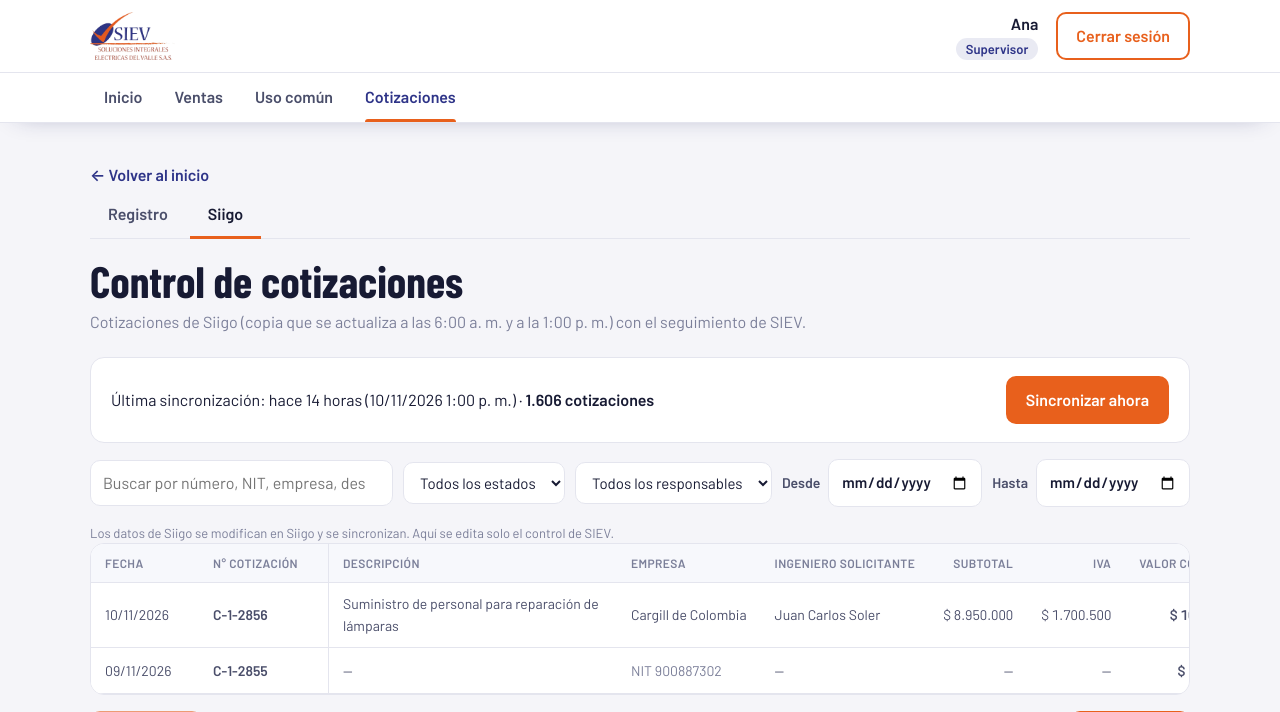
Test: detalle › guardar envía el formulario completo, null si es igual a Siigo, y luego el estado
Click the text "C-1-2856": (240, 615) [213,606,268,623]
(page scrolled)
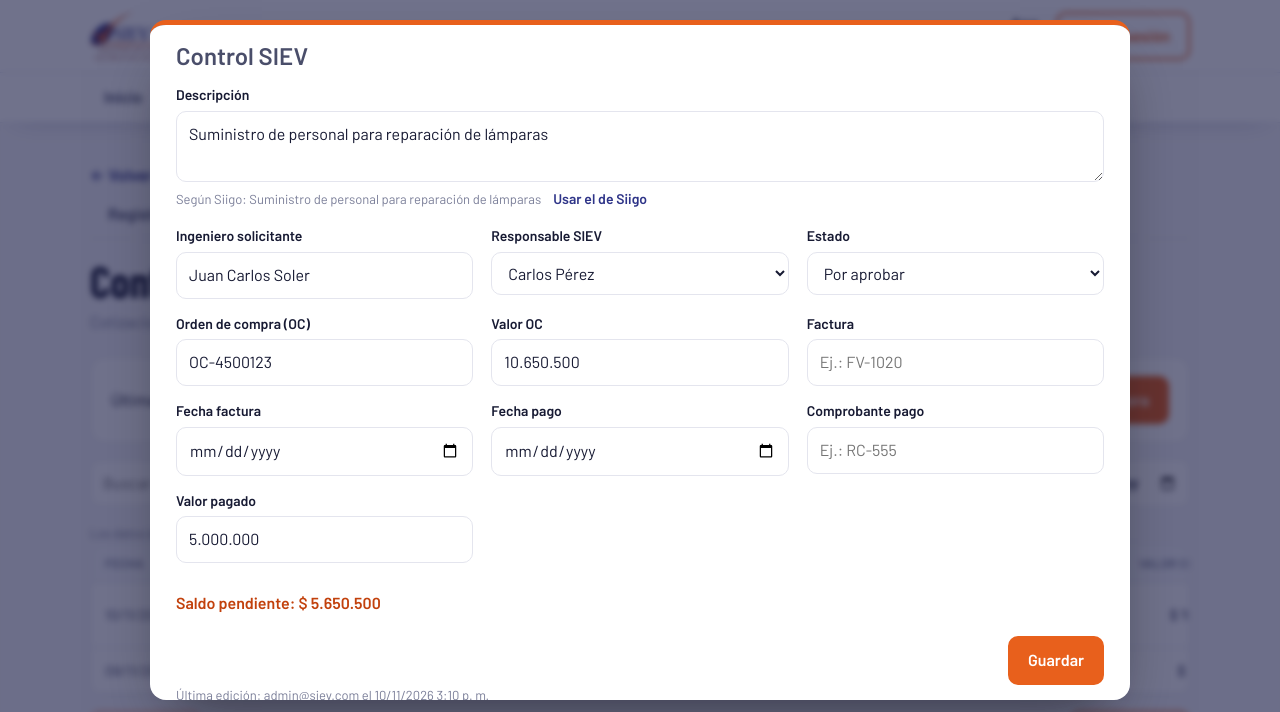
Result: the text "Según Siigo:" is shown once at [176,187,653,211]
In the field labelled "Factura": (955, 363) [807,339,1104,386], type "FV-1020"
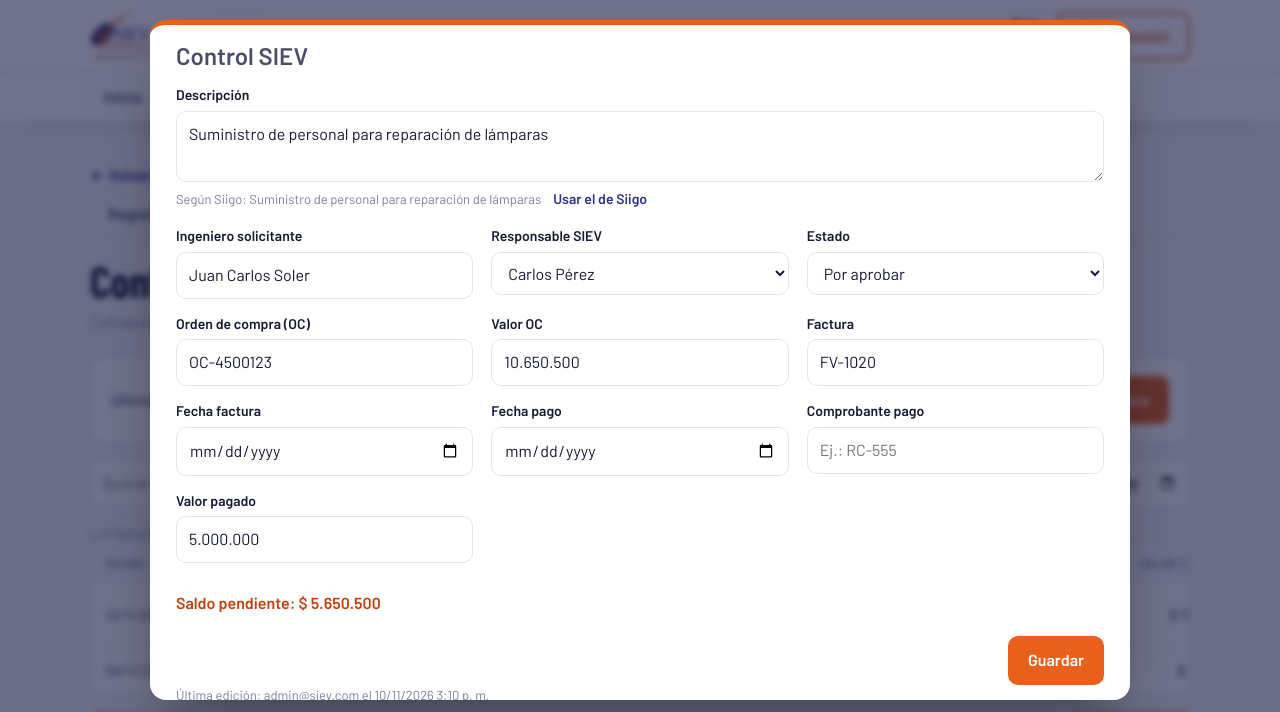
Clear the field labelled "Valor OC": (640, 363) [491,339,789,386]
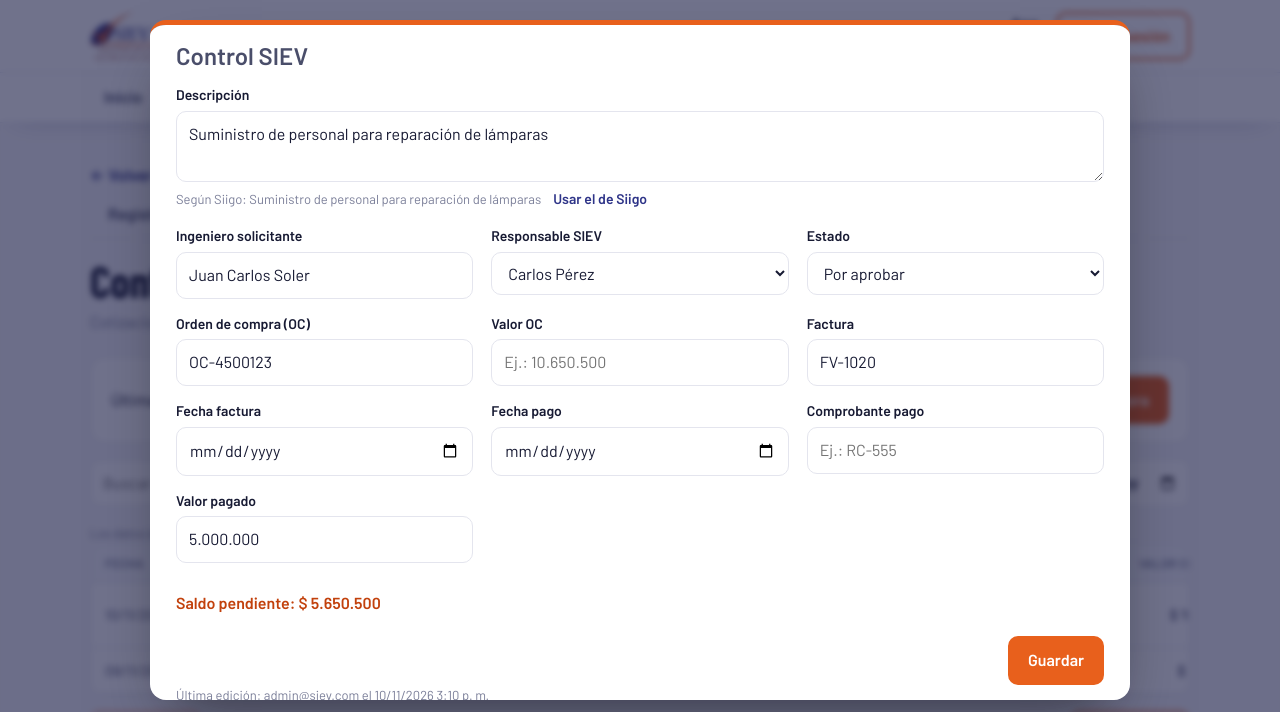
Select "Por facturar" in the dropdown labelled "Estado": (955, 273) [807,252,1104,295]
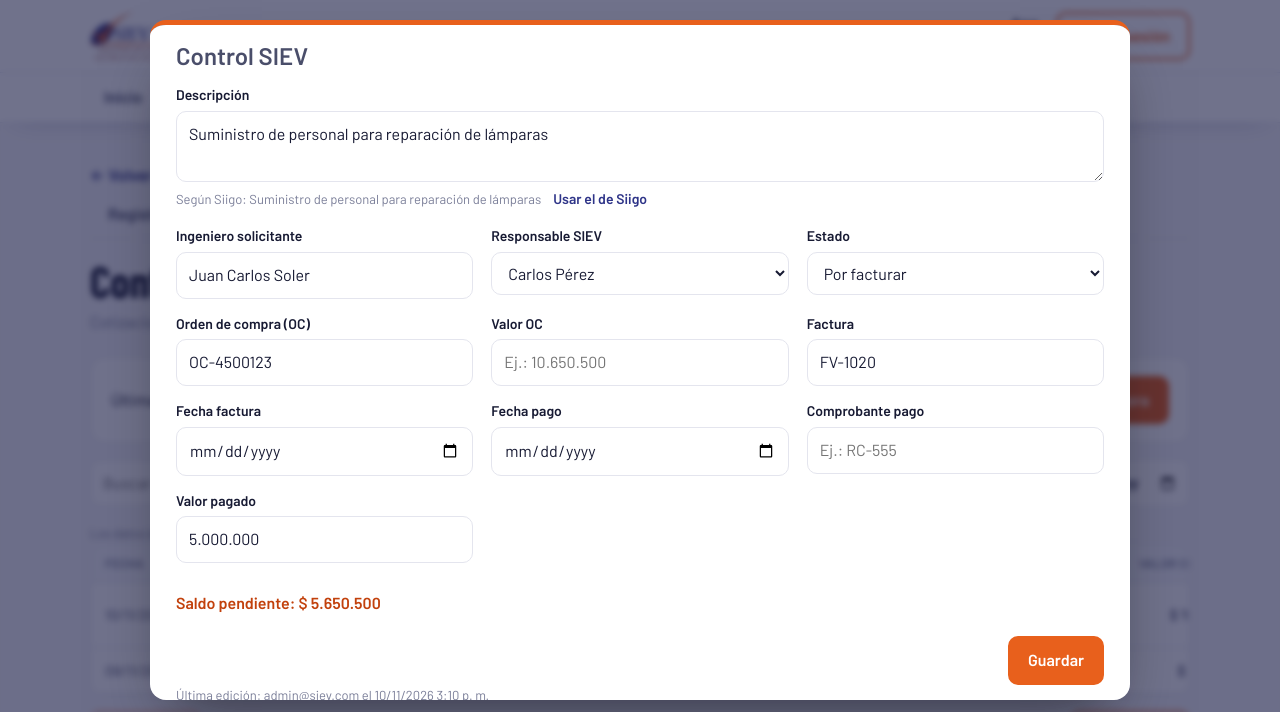
Click the button "Guardar": (1056, 660) [1008,636,1104,685]
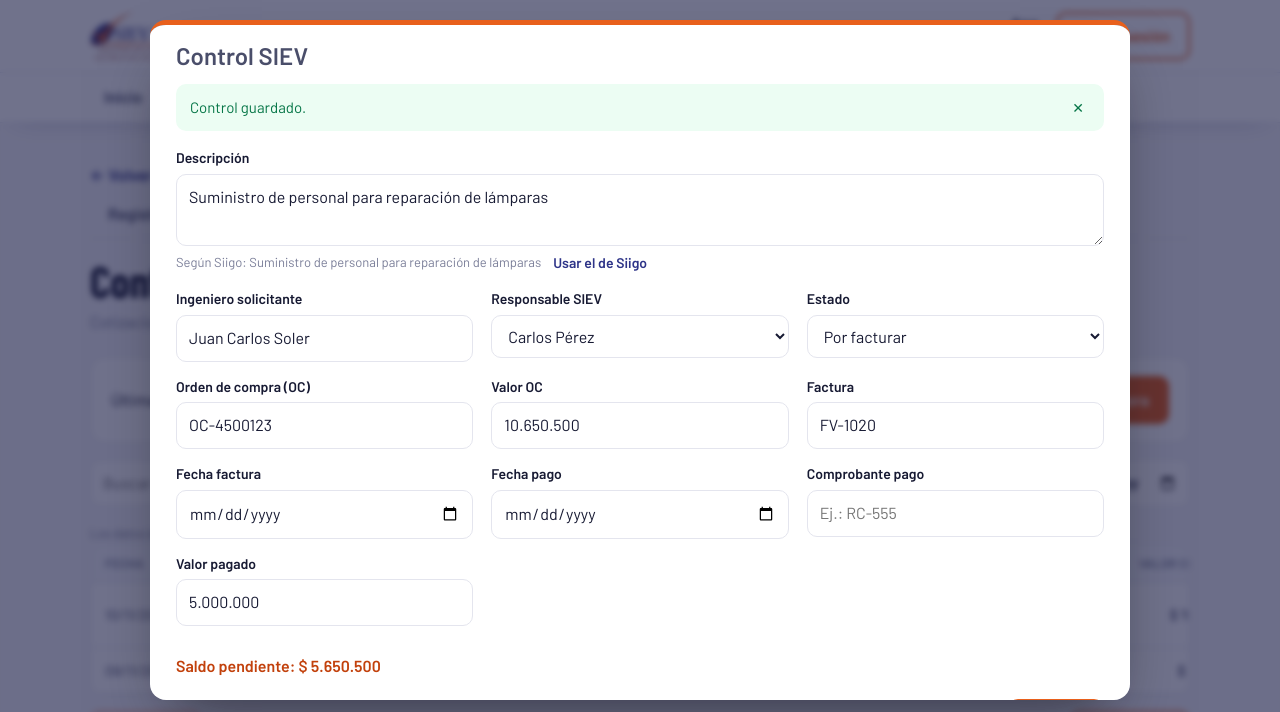
Result: the text "Control guardado." is shown at [190,96,306,119]
